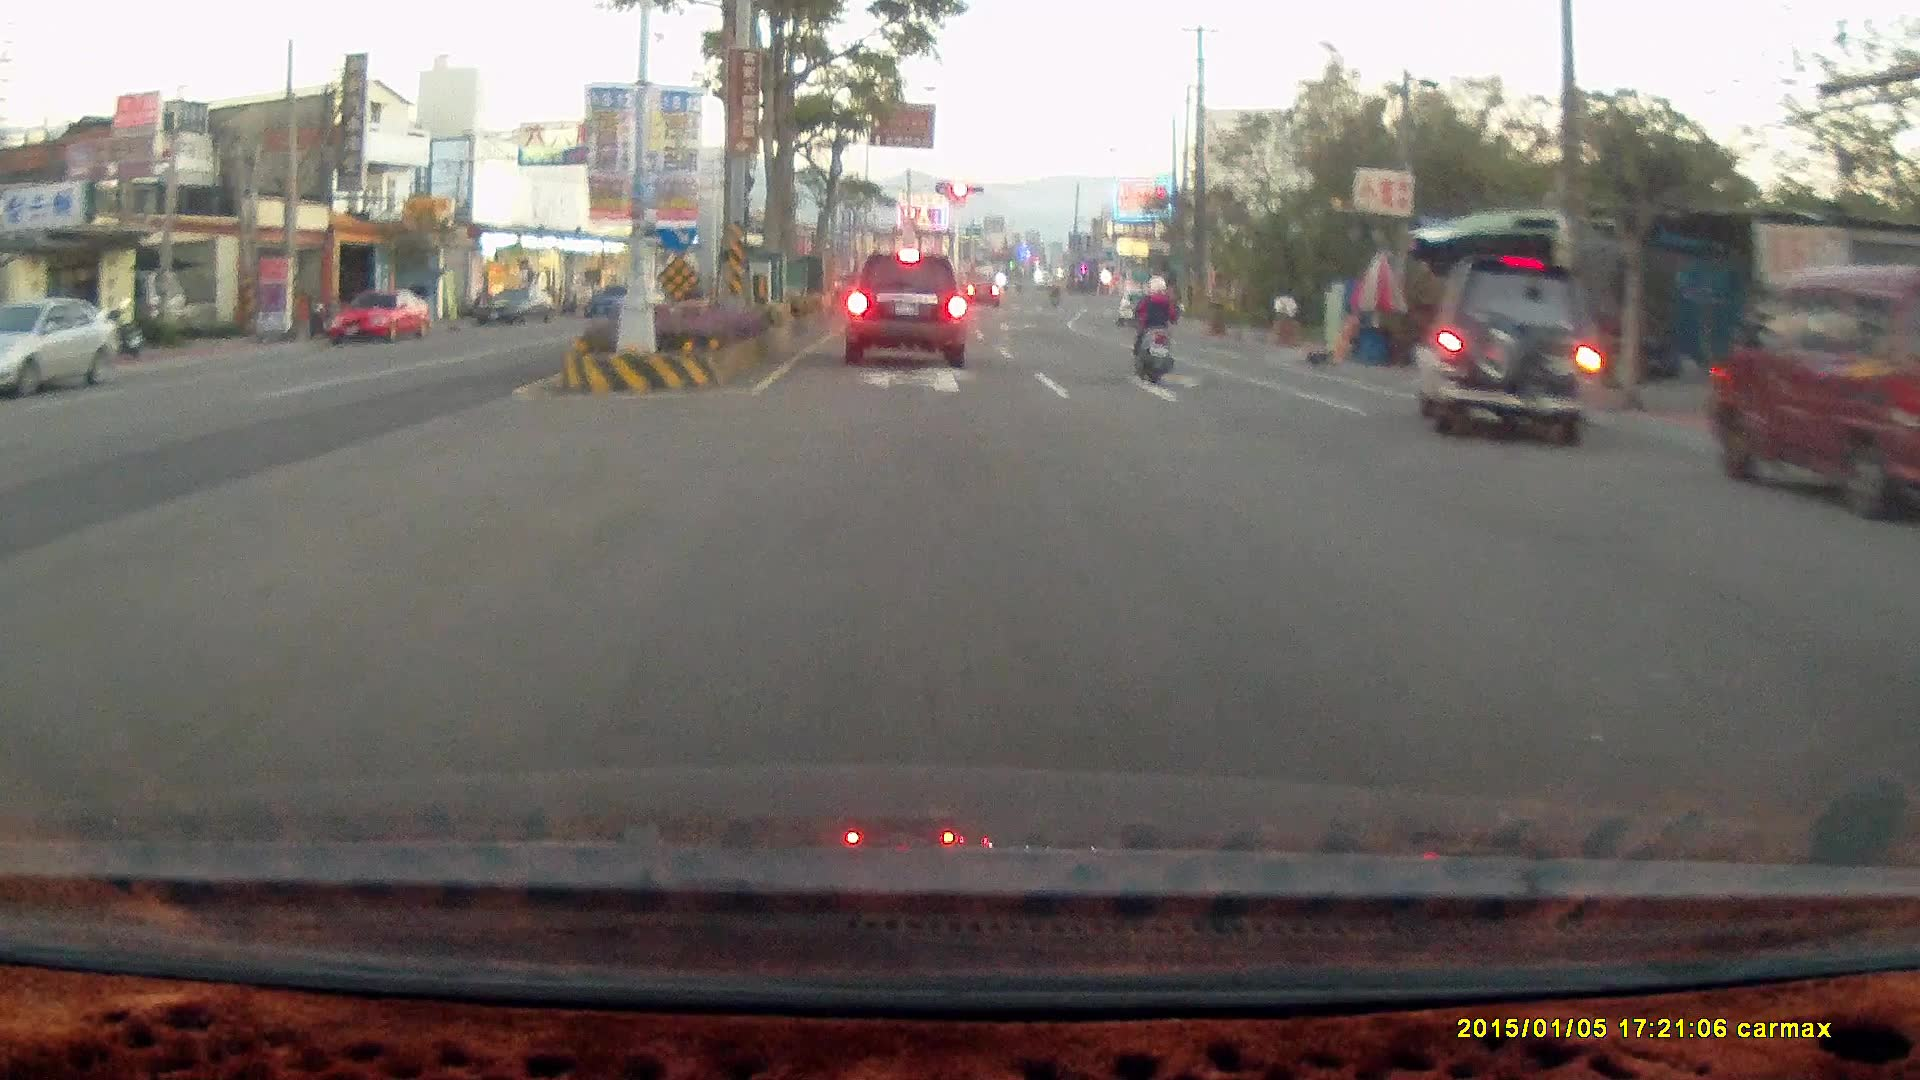rider: (1129, 273, 1179, 383)
vehicle: (1704, 264, 1920, 525), (1713, 263, 1920, 523), (1415, 254, 1599, 445), (1414, 254, 1598, 444), (841, 249, 969, 369), (1, 297, 121, 402), (1, 297, 120, 401), (1896, 493, 1920, 836), (1883, 528, 1920, 690), (332, 291, 439, 345), (329, 290, 429, 344), (481, 284, 554, 329), (1115, 288, 1165, 325)
